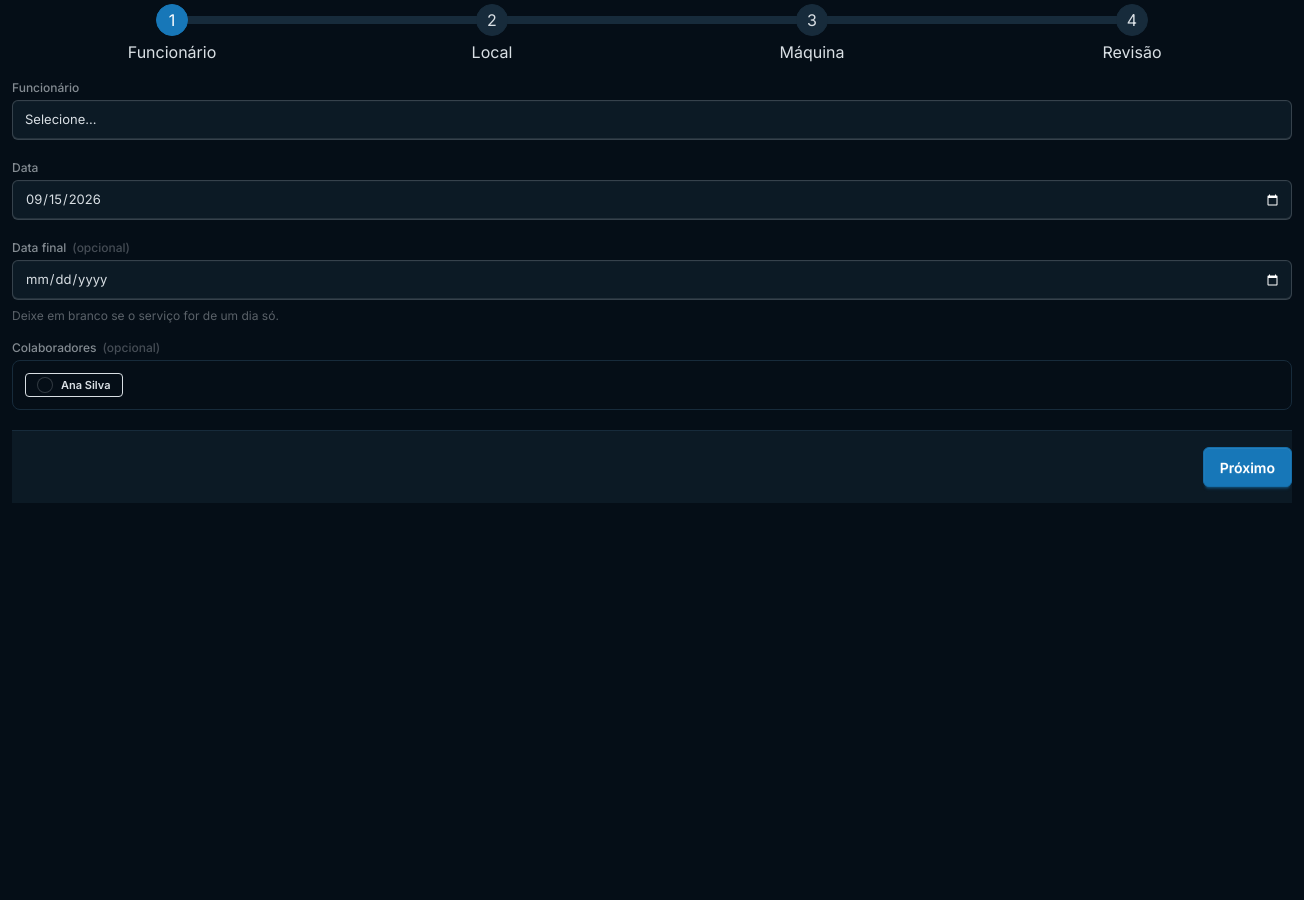
Test: JobStepper — navegação por click nos steps › permite clicar em step anterior para voltar (após avançar)
The image size is (1304, 900).
Select "Ana Silva" in the dropdown labelled "Funcionário" at (652, 120), box [12, 100, 1292, 140]
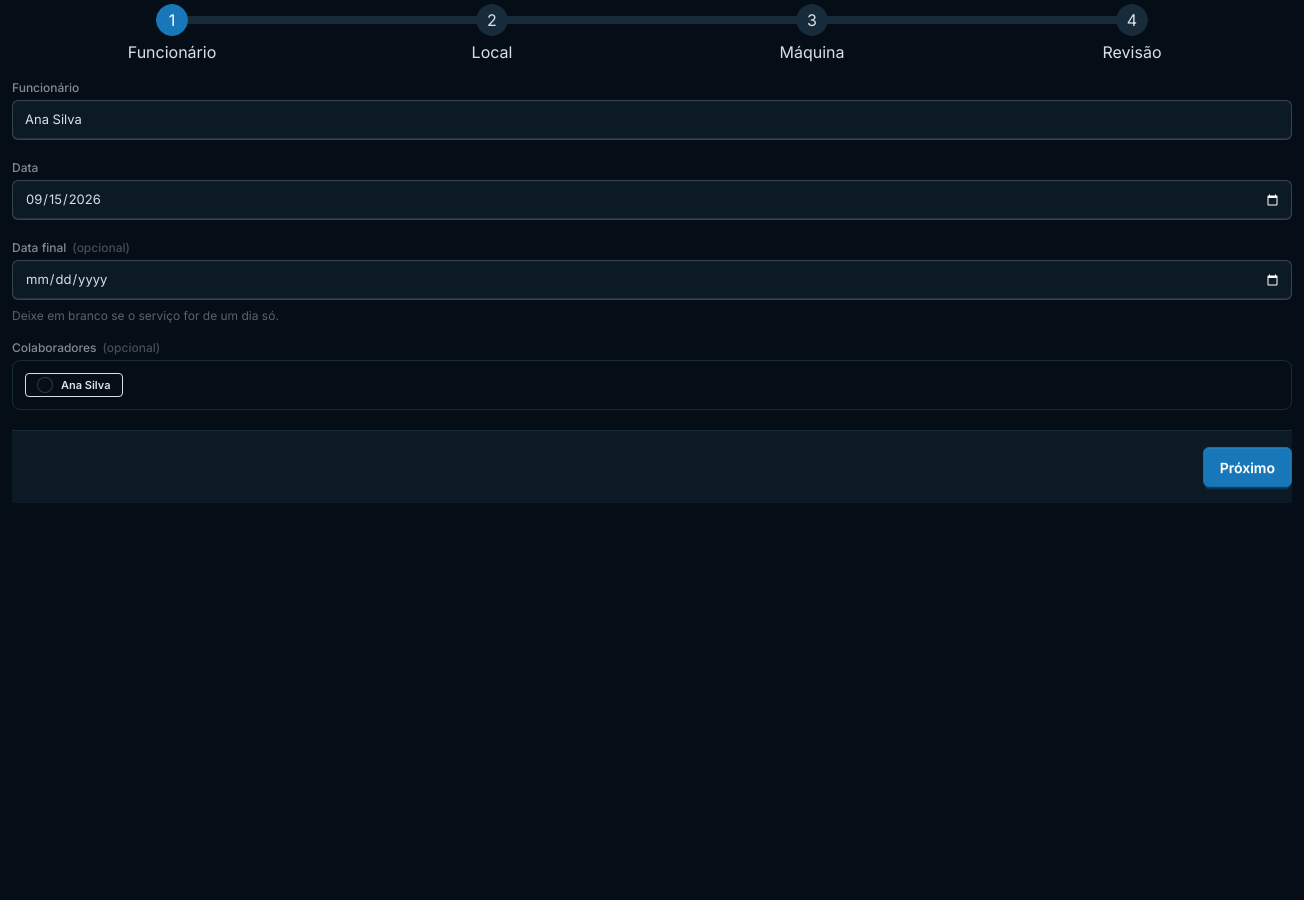
Type "2024-06-01" into the date field labelled "Data" at (652, 200), box [12, 180, 1292, 220]
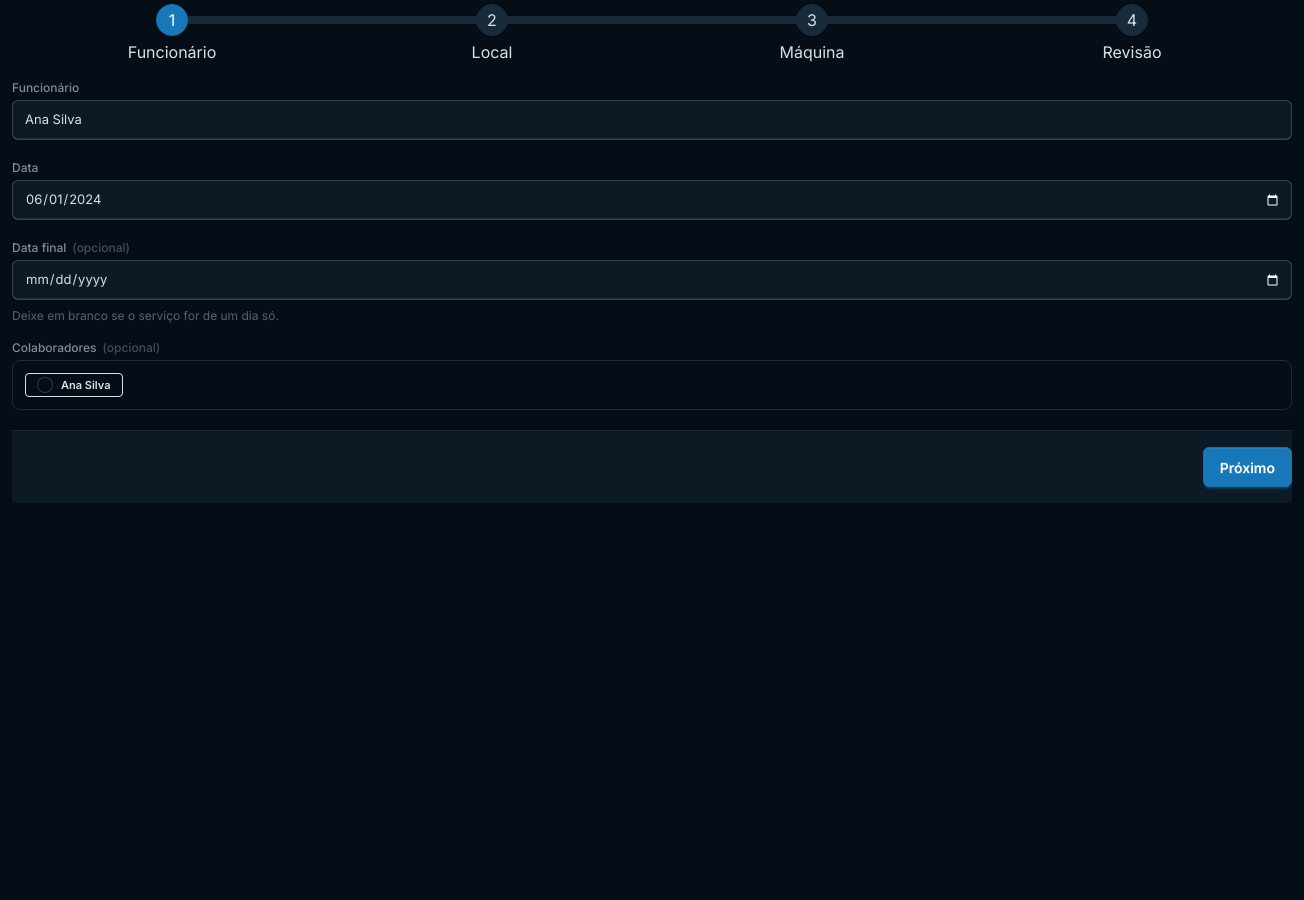
Click the button "Próximo" at (1247, 467), box [1203, 447, 1292, 487]
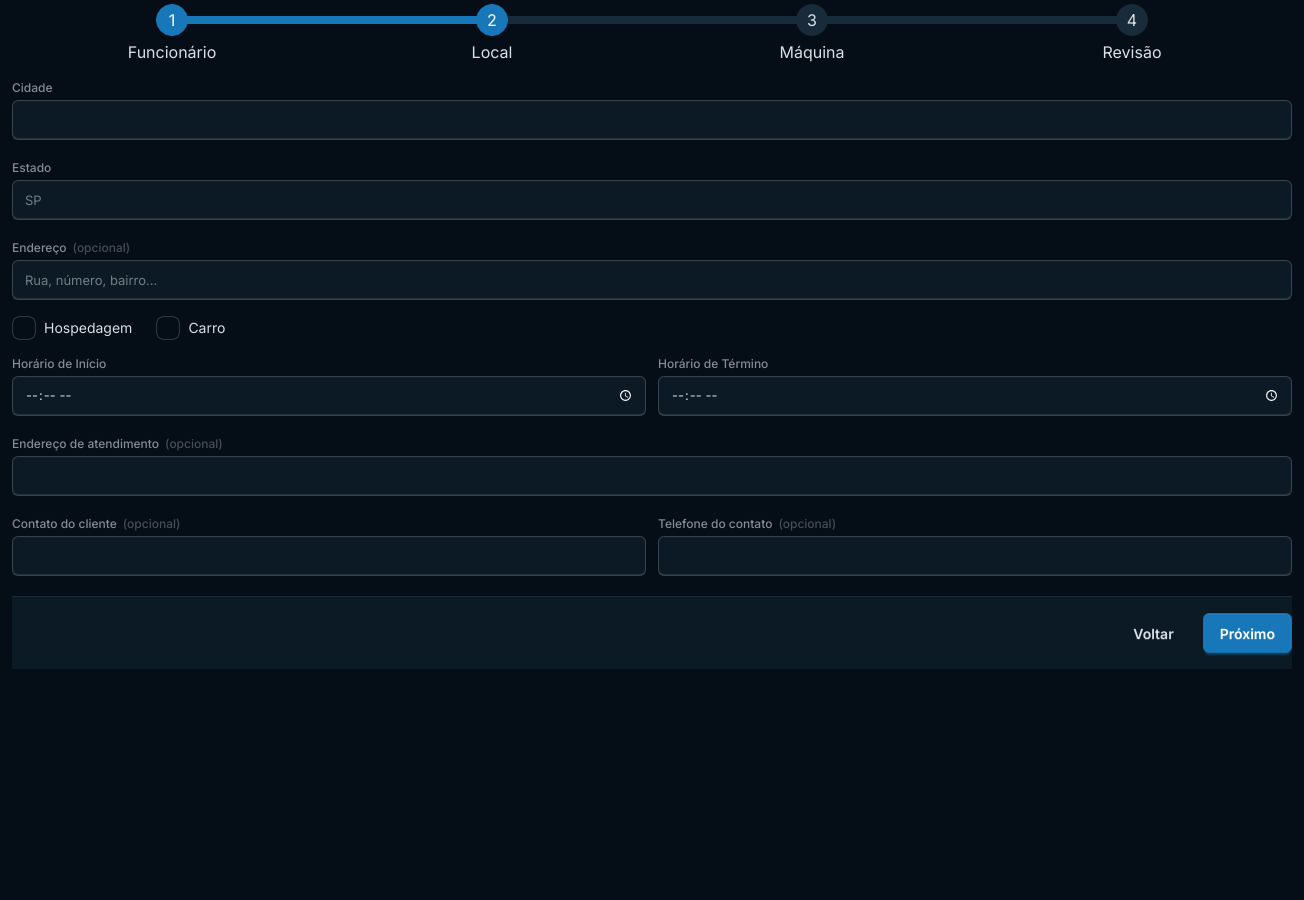
Check: the field labelled "Cidade" is shown, box [12, 100, 1292, 140]
Click the button with test id "step-indicator-1" at (172, 52), box [128, 42, 216, 62]
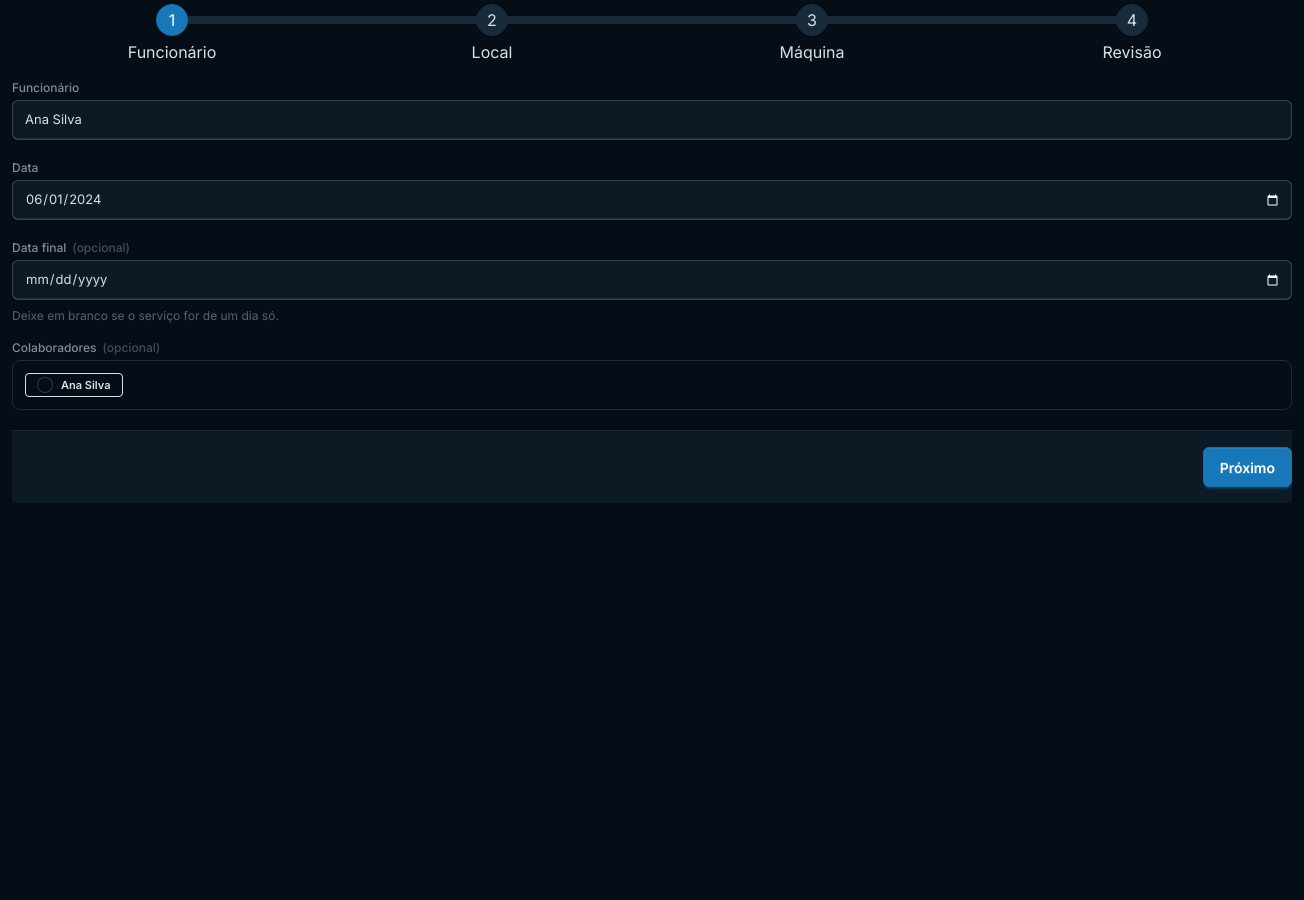
Check: the dropdown labelled "Funcionário" is shown, box [12, 100, 1292, 140]
